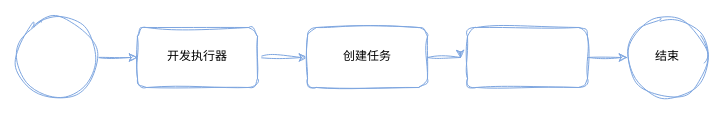
The diagram is 725 pixels wide and 115 high, and some of its shapes have lost their labels. The shapes that lost their labels are listed below. From the top down, each one's box as (x1, y1, x2, y2) in pixels, then its label:
(16, 16, 98, 98): 开始
(466, 26, 588, 88): 启动任务
